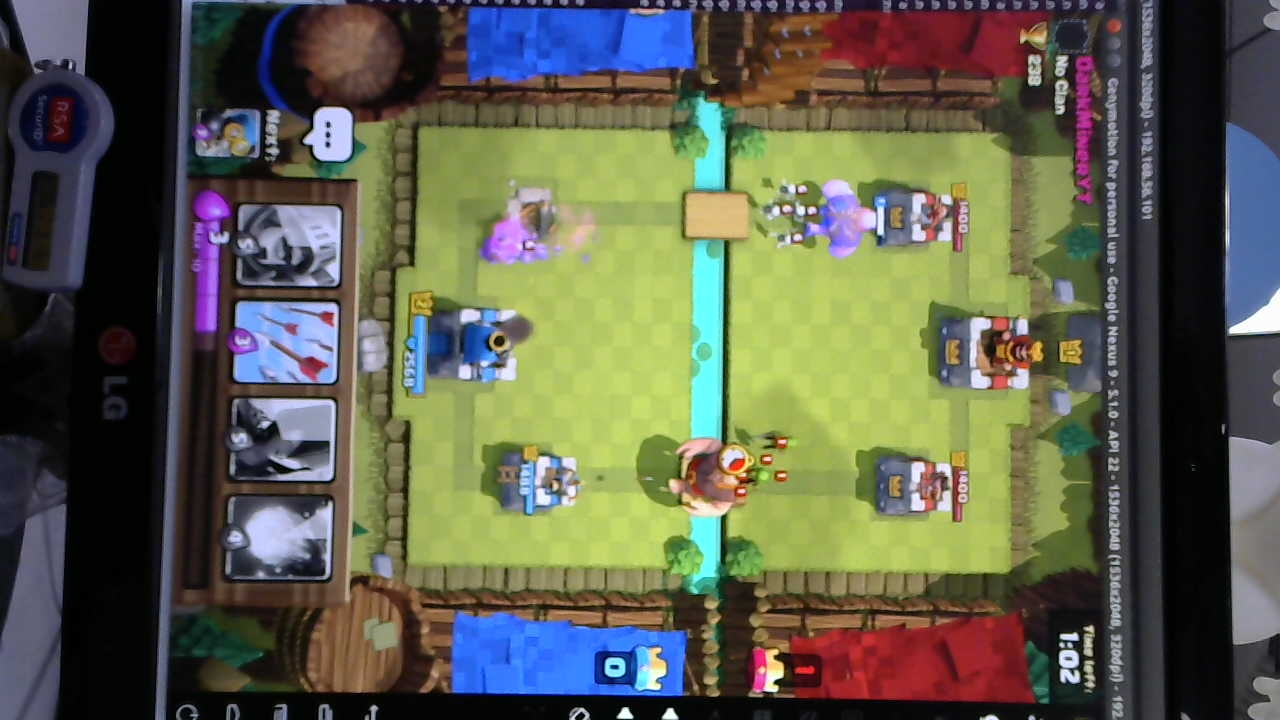goblinsE: (708, 423, 800, 499)
